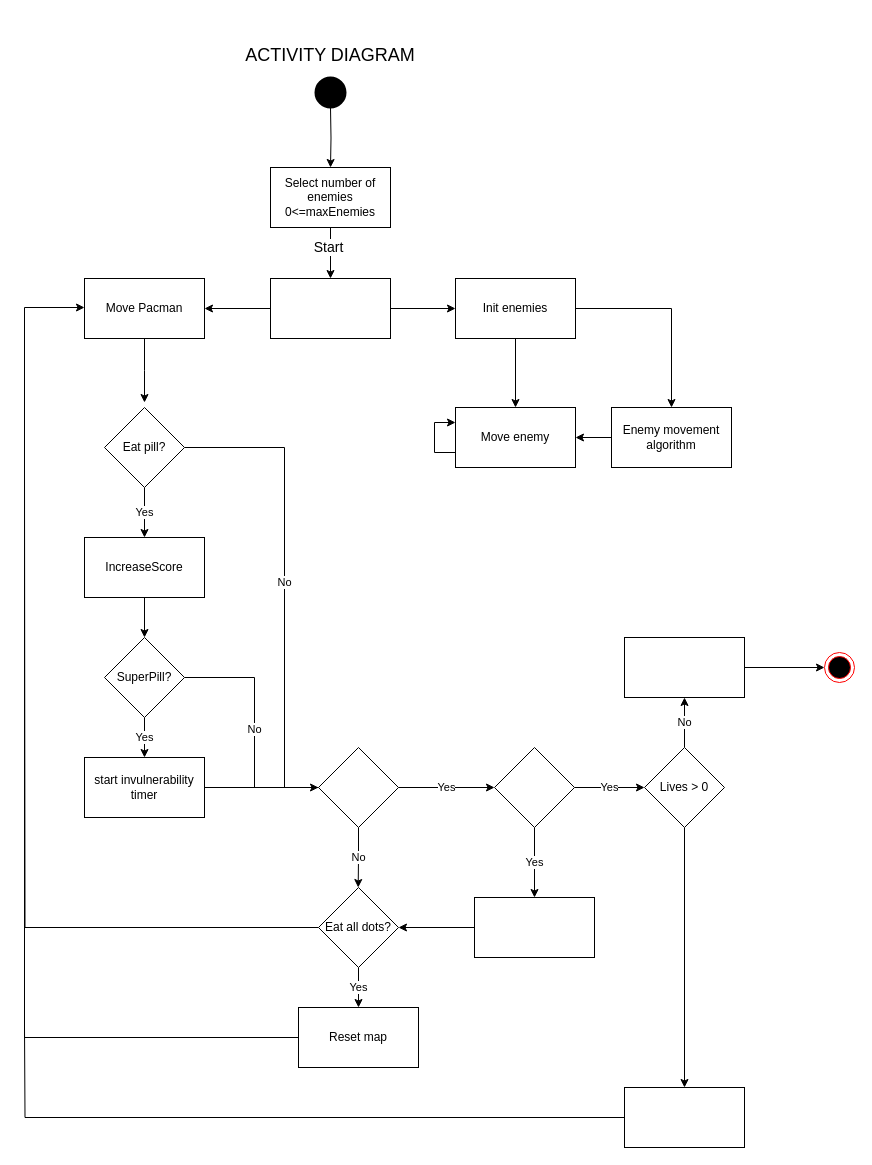
The diagram is 872 pixels wide and 1165 high, and some of its shapes have lost their labels. The centre of each missing label's shape, as x and y in pixels:
"Crash Enemy" goes at point (358, 787).
"Game" goes at point (330, 308).
"Game Over" goes at point (684, 667).
"Invulnerability?" goes at point (534, 787).
"Kill enemy" goes at point (534, 927).
"killPlayer" goes at point (684, 1117).
